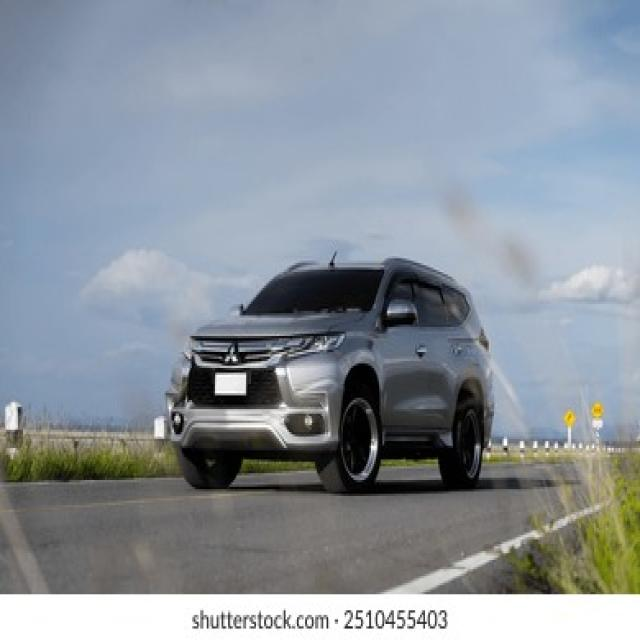mitsubishi: (223, 340, 243, 368)
